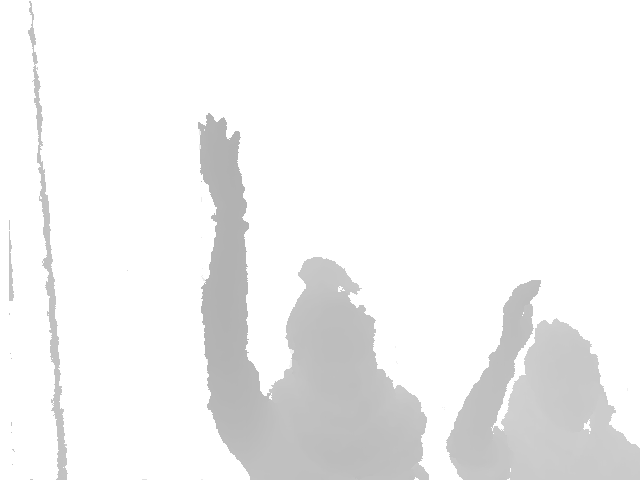hand: (195, 107, 251, 214), (497, 275, 543, 356)
head: (508, 321, 611, 438), (284, 256, 380, 379)
person: (191, 106, 431, 480), (446, 276, 640, 480)
